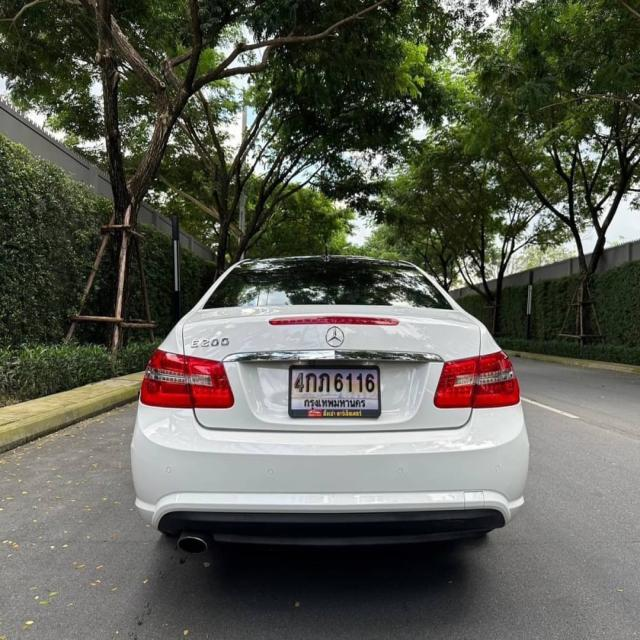license_plate: (288, 363, 382, 420)
